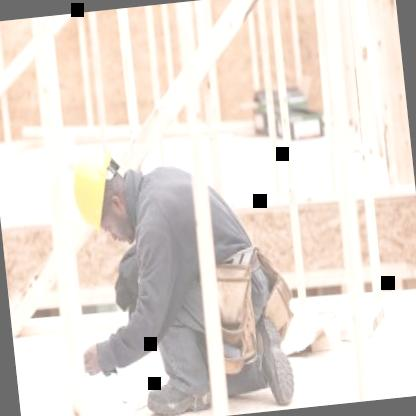helmet: (65, 143, 133, 254)
